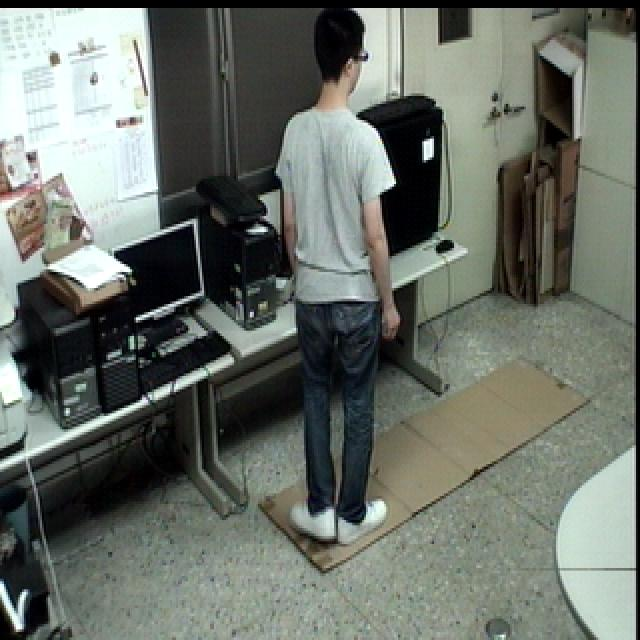stand: (272, 4, 415, 552)
